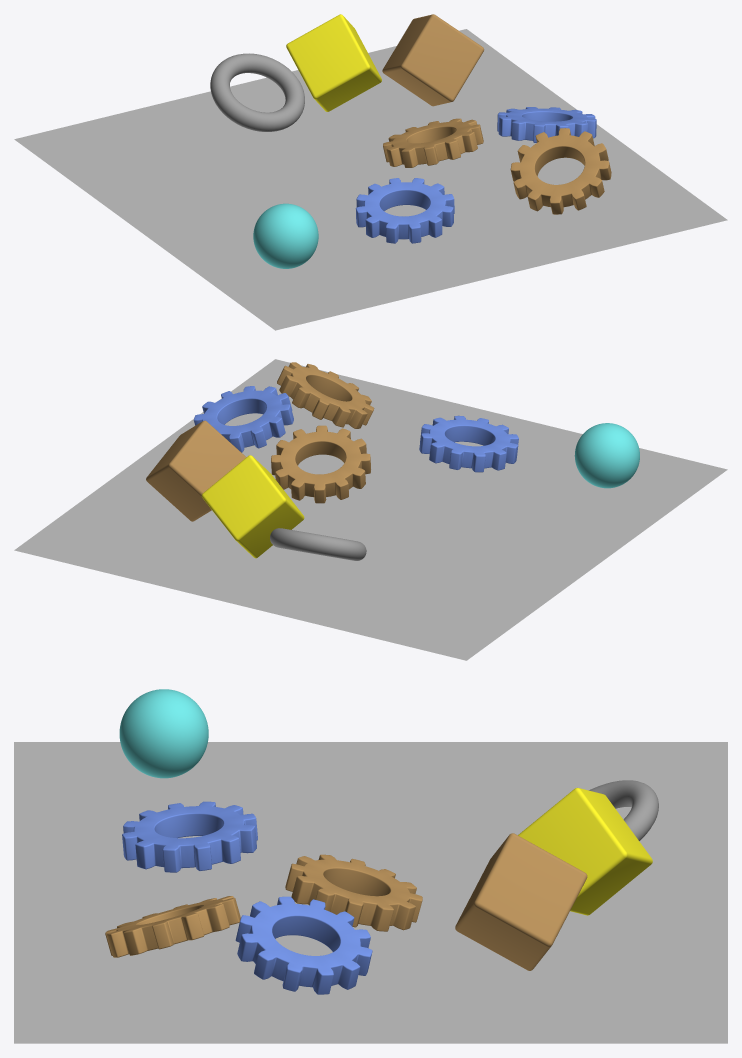
3 renders of one model, top to bottom at view 1: azimuth 30°, elevation 25°; view 2: azimuth 150°, elevation 25°; view 3: azimuth 270°, elevation 25°, orthographic. The views are drawn at different scales.
Parts seen in each view (by area): view 1: Cube, FileBasedObject.003, FileBasedObject.005, FileBasedObject.002, FileBasedObject.007, FileBasedObject.001, FileBasedObject, FileBasedObject.004, FileBasedObject.006; view 2: Cube, FileBasedObject.005, FileBasedObject.003, FileBasedObject, FileBasedObject.007, FileBasedObject.006, FileBasedObject.002, FileBasedObject.004, FileBasedObject.001; view 3: Cube, FileBasedObject.003, FileBasedObject.006, FileBasedObject.005, FileBasedObject.007, FileBasedObject, FileBasedObject.004, FileBasedObject.002, FileBasedObject.001.
Part boxes in pixels (x1,y1,x2,y2): Cube: (14,29,727,330); FileBasedObject.003: (382,14,484,106); FileBasedObject.005: (286,14,381,111); FileBasedObject.002: (510,128,611,214); FileBasedObject.007: (355,178,454,243); FileBasedObject.001: (210,53,304,131); FileBasedObject: (383,118,483,167); FileBasedObject.004: (253,203,318,268); FileBasedObject.006: (497,107,596,142); Cube: (14,359,727,660); FileBasedObject.005: (201,455,304,558); FileBasedObject.003: (146,420,246,521); FileBasedObject: (271,425,370,503); FileBasedObject.007: (419,415,518,472); FileBasedObject.006: (193,386,293,452); FileBasedObject.002: (277,362,374,428); FileBasedObject.004: (574,423,639,488); FileBasedObject.001: (270,528,366,560); Cube: (14,742,727,1043); FileBasedObject.003: (455,833,587,970); FileBasedObject.006: (235,896,372,994); FileBasedObject.005: (518,787,652,915); FileBasedObject.007: (122,801,257,872); FileBasedObject: (285,854,422,931); FileBasedObject.004: (119,689,208,778); FileBasedObject.002: (105,896,240,957); FileBasedObject.001: (589,780,658,840).
Bounding box in the file's own units: 8 × 1.68 × 8.
